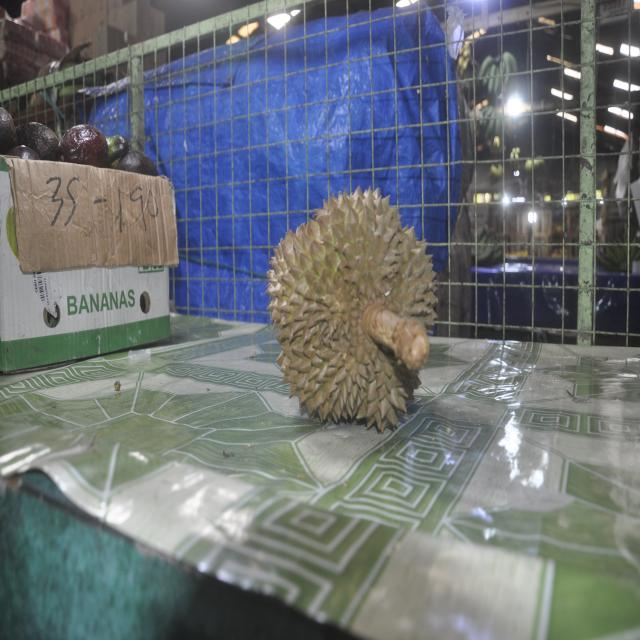mature: (267, 186, 437, 433)
